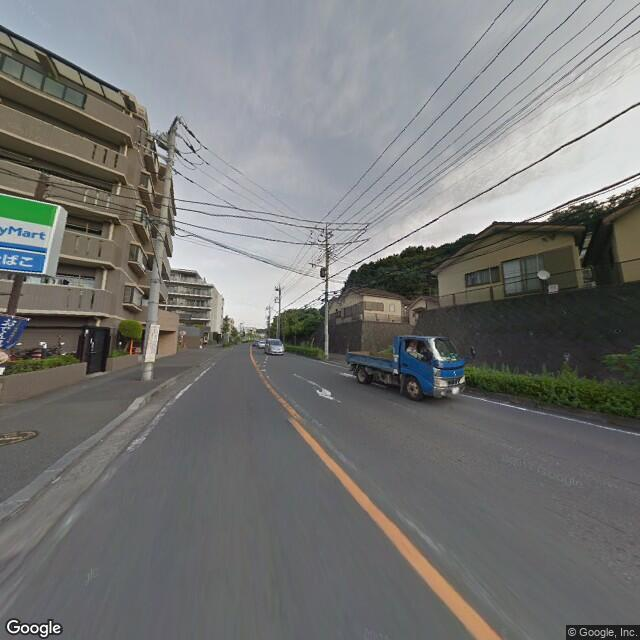family_mart: (1, 192, 54, 279)
